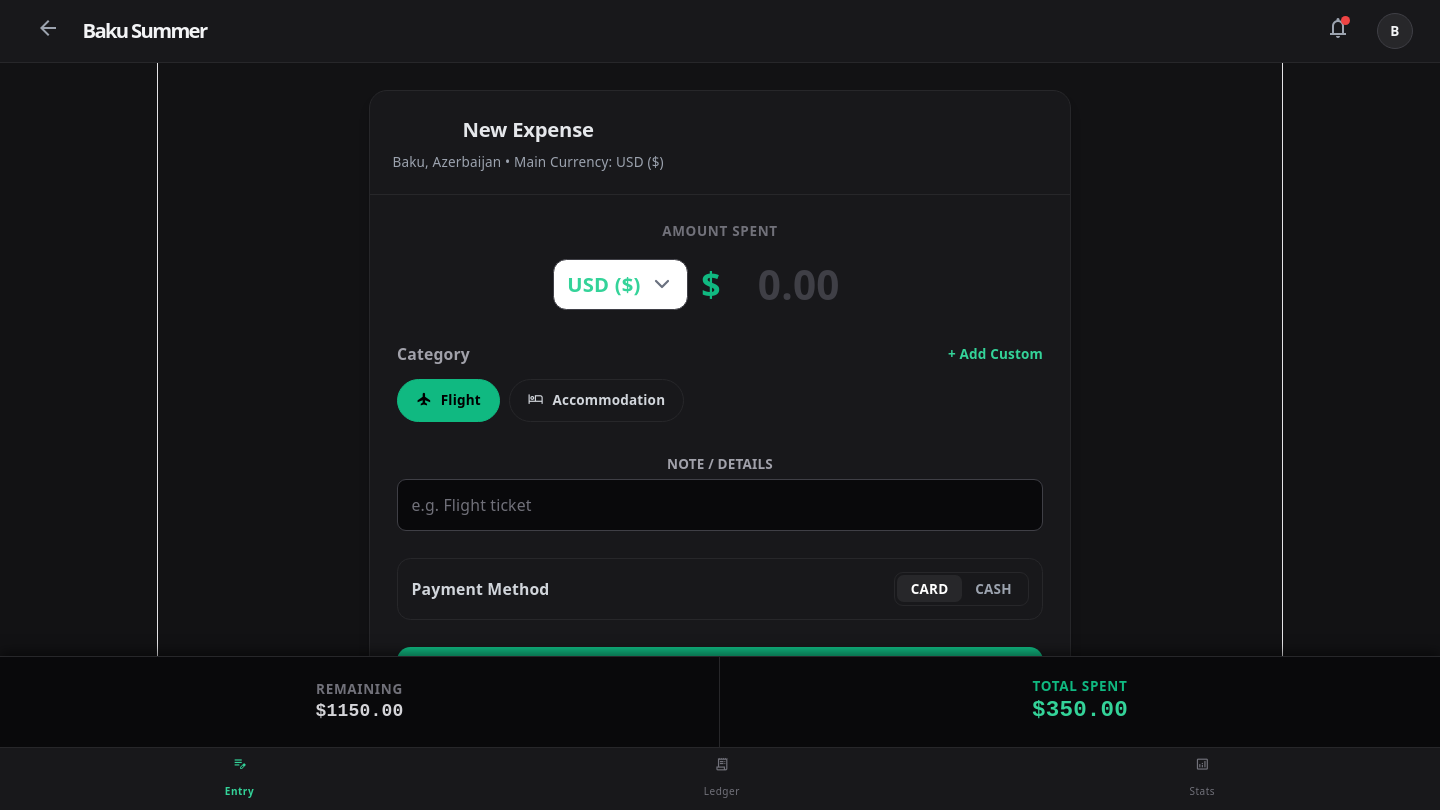
it: LedgerView Component › should swap tabs when clicking ledger tab button
The image size is (1440, 810).
Click the button with test id "tab-btn-ledger" at (722,779), box [704,754,740,804]
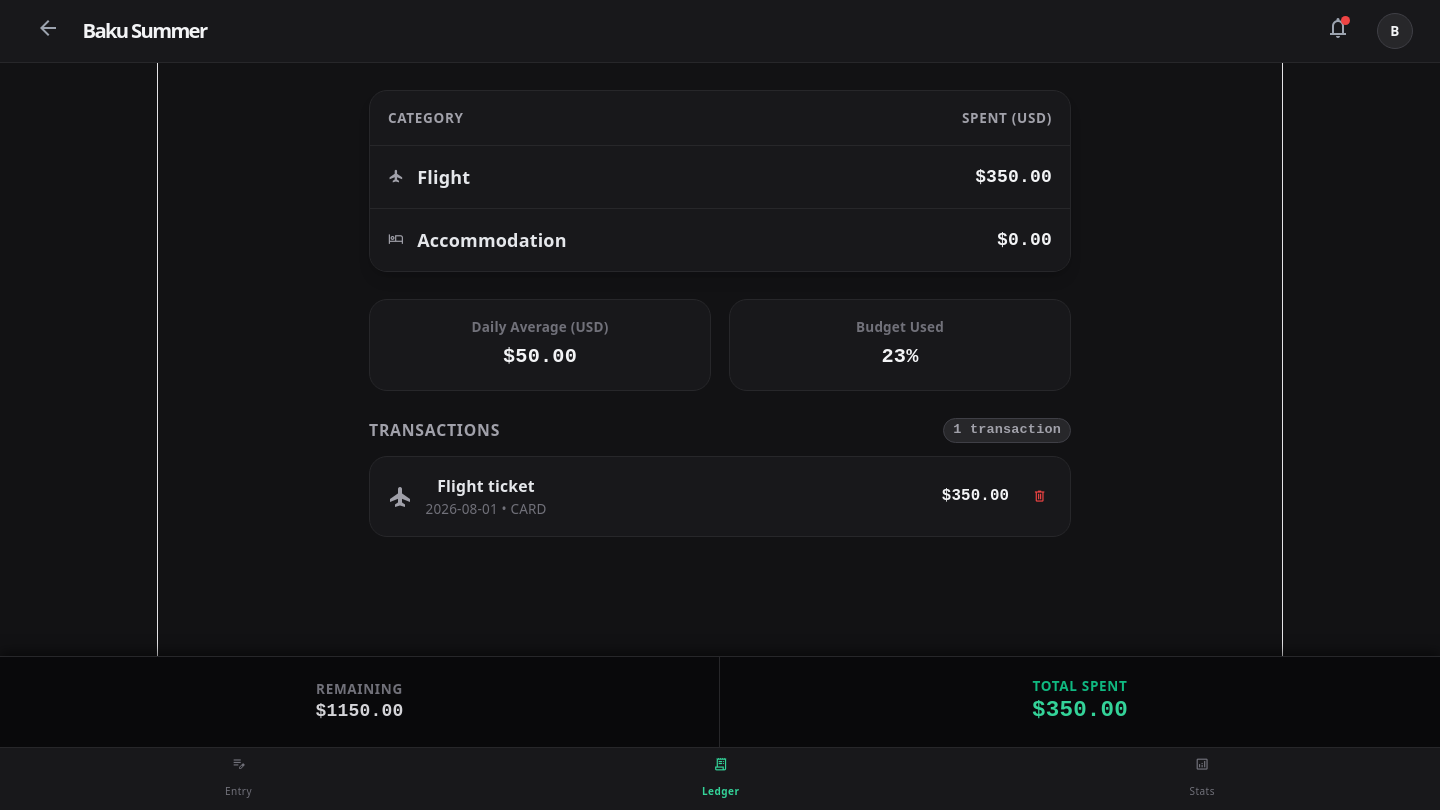
Expected: the text "Flight" is shown, [417,164,470,190]
Expected: the text "$350.00" is shown, [811,146,1070,209]
Expected: the text "1 transaction" is shown, [943,418,1071,443]
